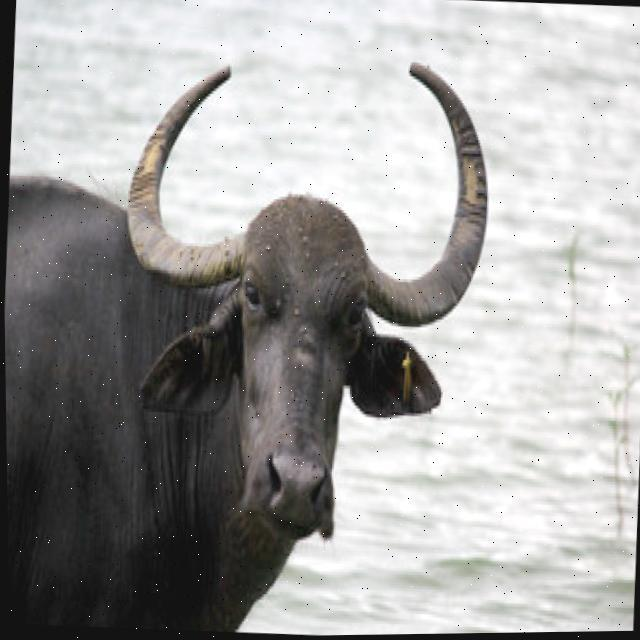Buffalo: (1, 35, 502, 640)
